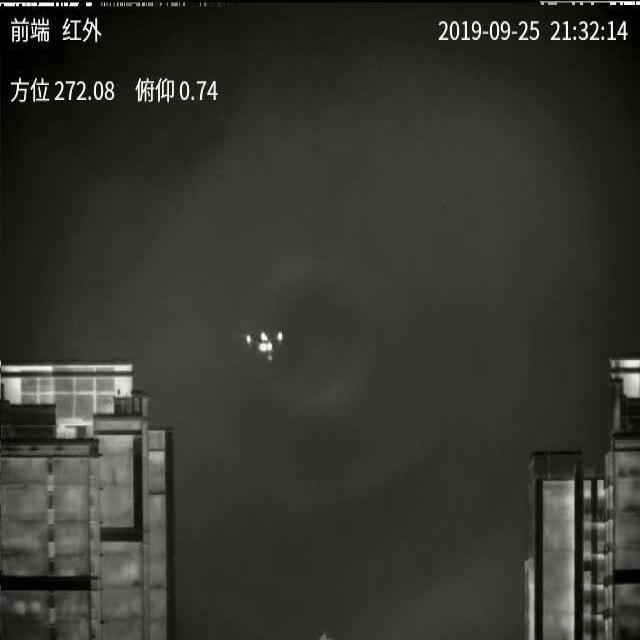drone: (244, 328, 285, 360)
